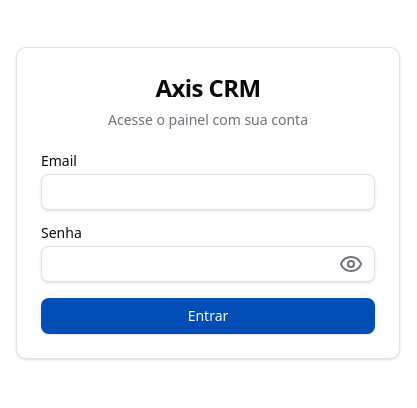
LoginPage › invalid credentials show the generic message and clear the password
The width and height of the screenshot is (417, 408).
Type "ops@example.com" into the field labelled "Email" at (208, 192), box [41,174,375,210]
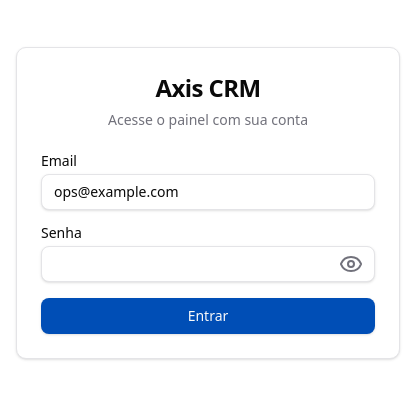
Type "errada" into the password field labelled "Senha" at (208, 264), box [41,246,375,282]
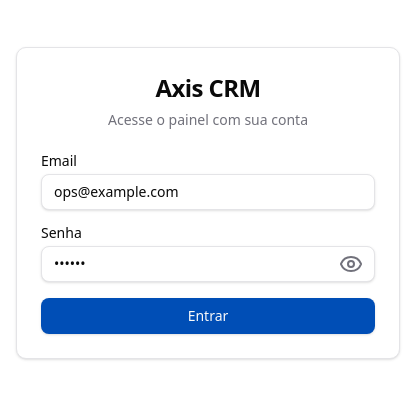
Click the button "Entrar" at (208, 316), box [41,298,375,334]
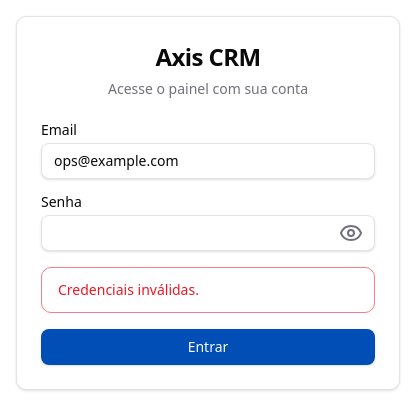
Result: the text "Credenciais inválidas." is shown at [58,280,199,299]
Result: the password field labelled "Senha" is empty at [41,215,375,251]
